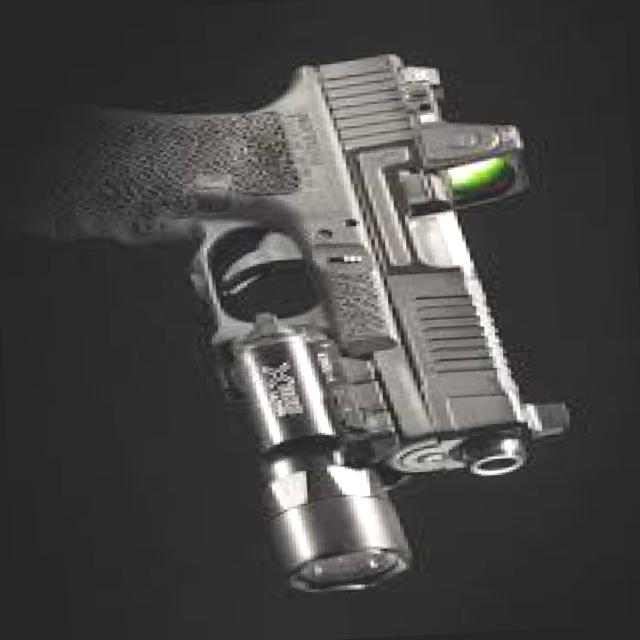handgun: (0, 42, 592, 610)
